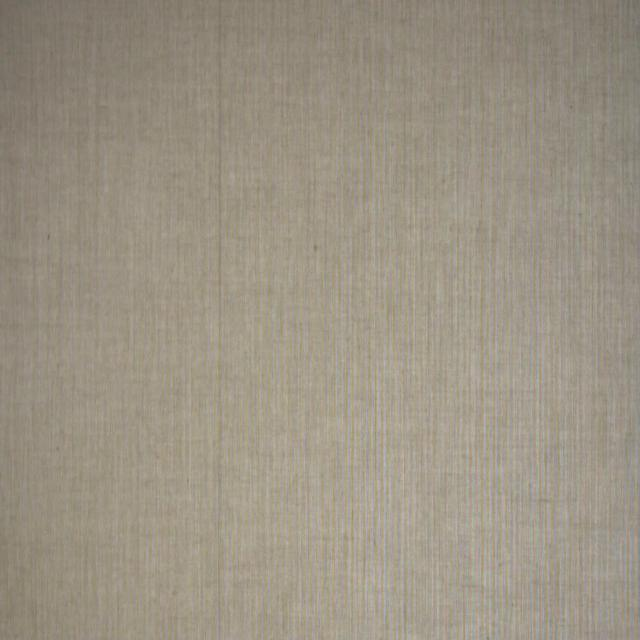dirty: (313, 243, 317, 256)
